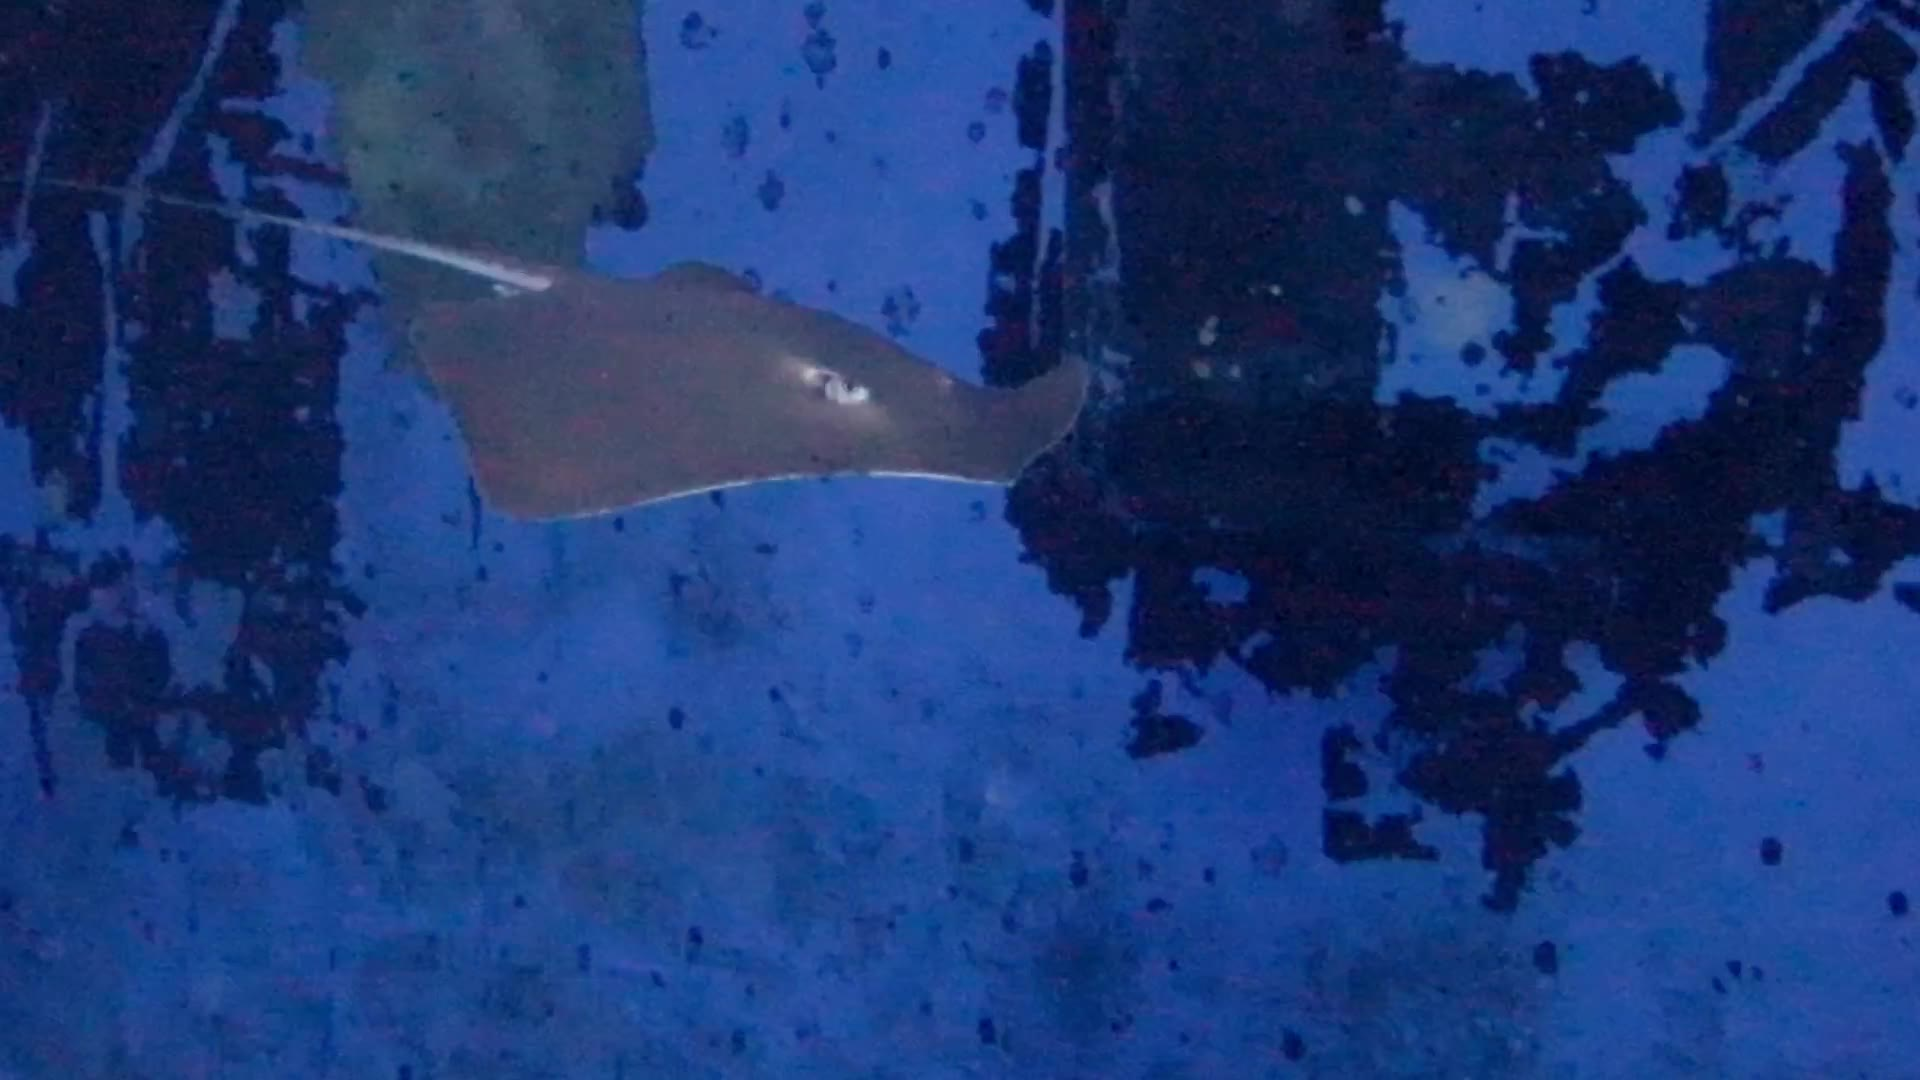Himantura gerrardi: (11, 55, 1153, 601)
